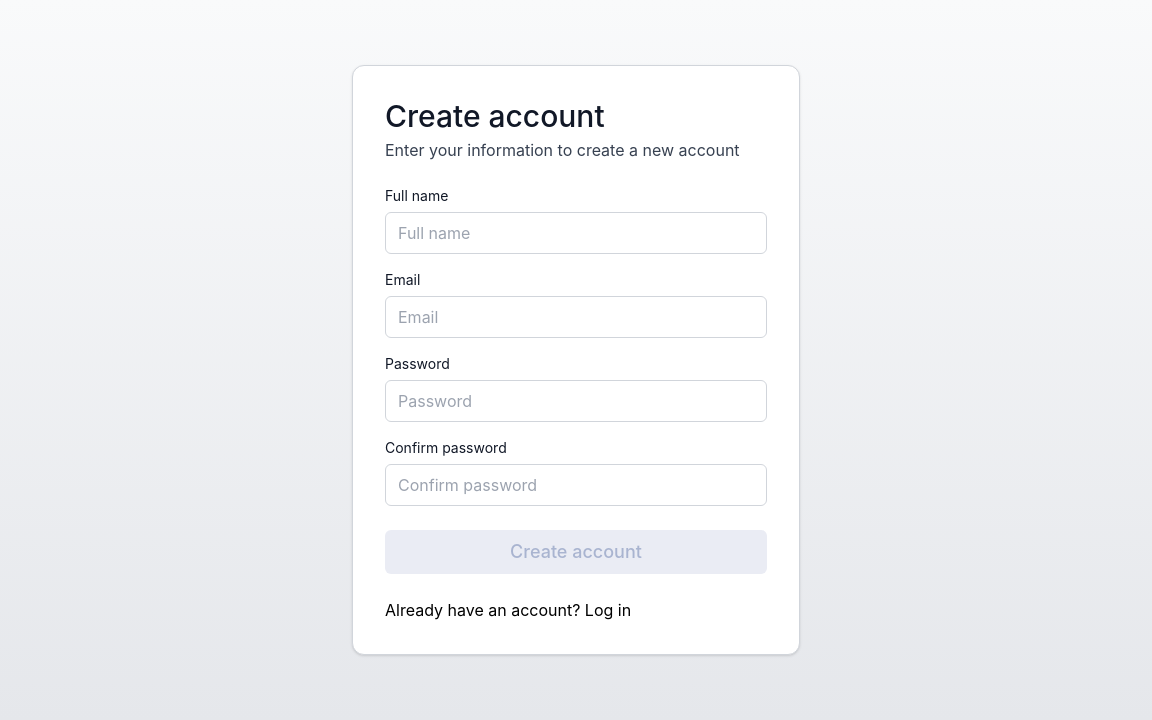
Test: SignupForm › maps 422 field errors from the server onto the matching inputs
Type "Jane Doe" into the field labelled "Full name". click: (576, 233)
box: [385,212,767,254]
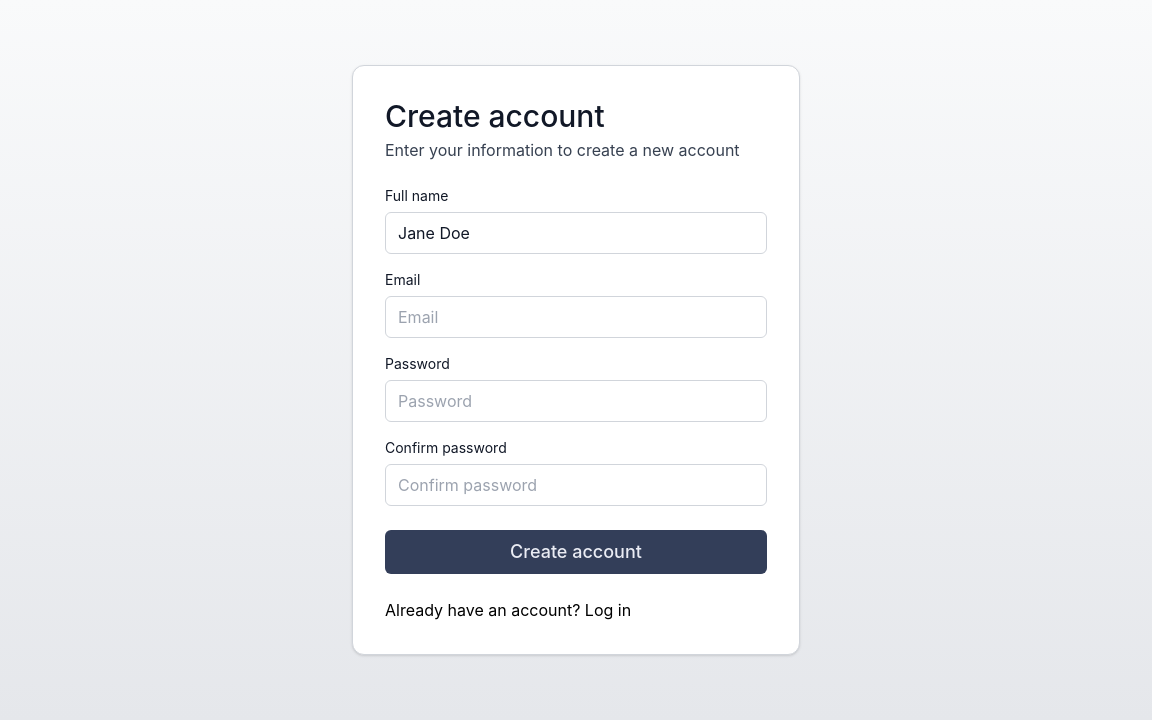
Type "jane@example.com" into the field labelled "Email". click: (576, 317)
box: [385,296,767,338]
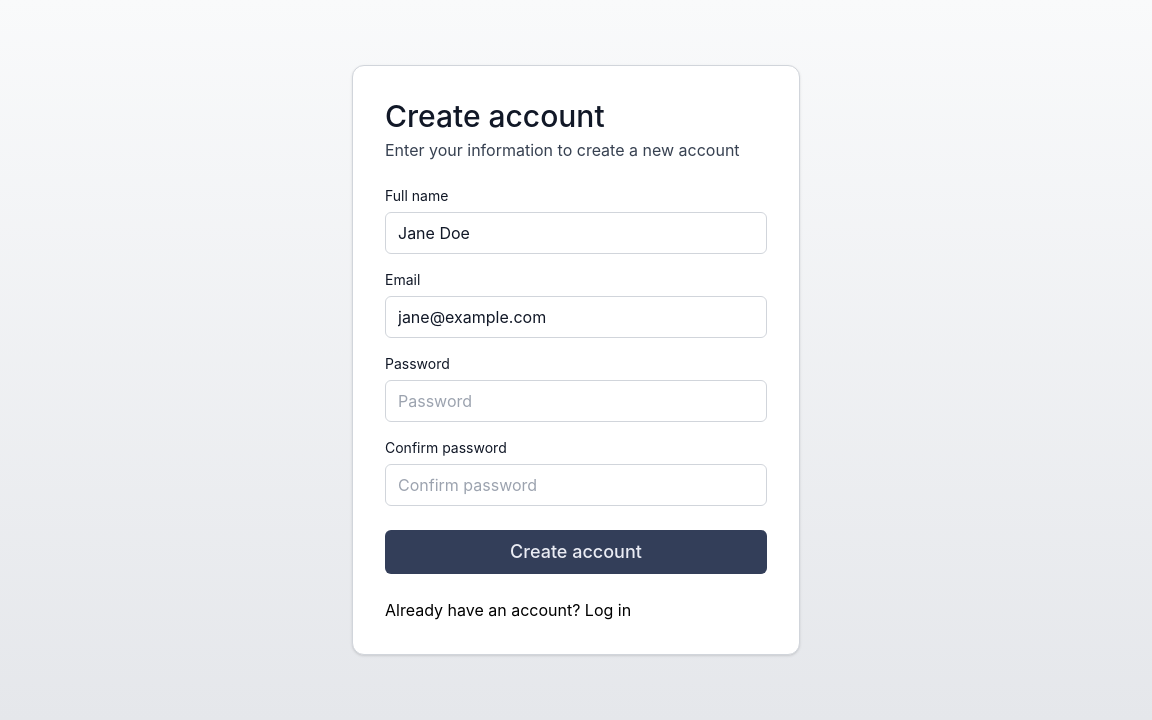
Type "password123" into the password field labelled "Password". click: (576, 401)
box: [385,380,767,422]
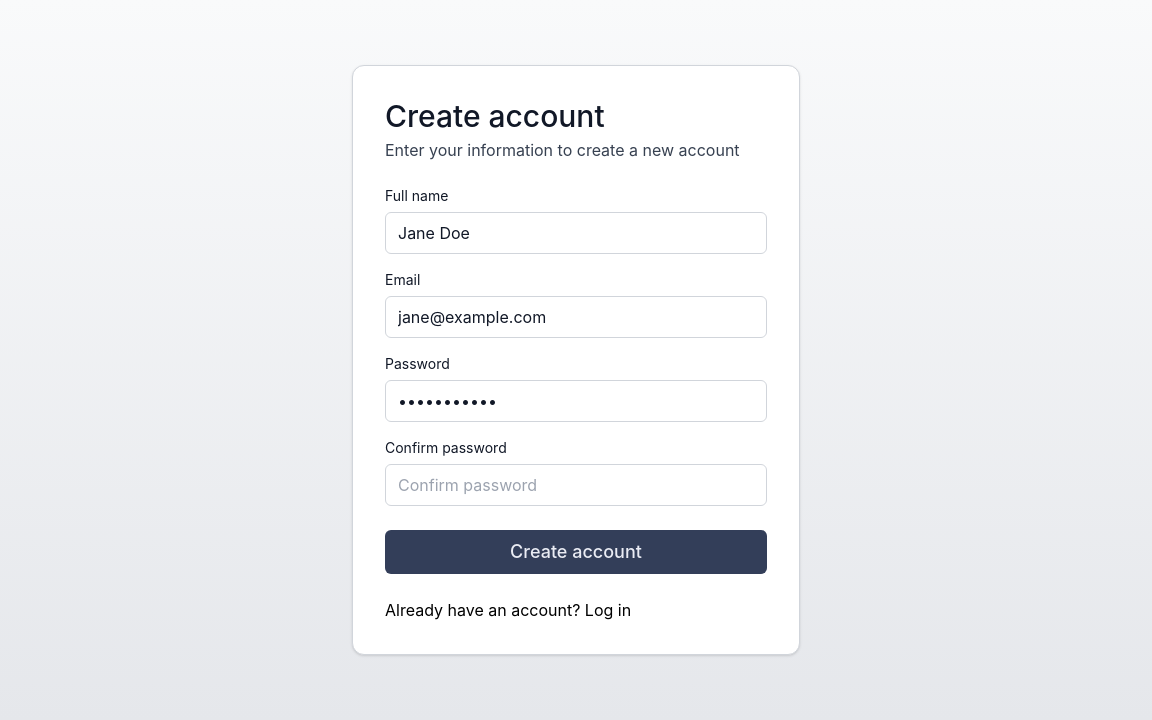
Type "password123" into the password field labelled "Confirm password". click: (576, 485)
box: [385,464,767,506]
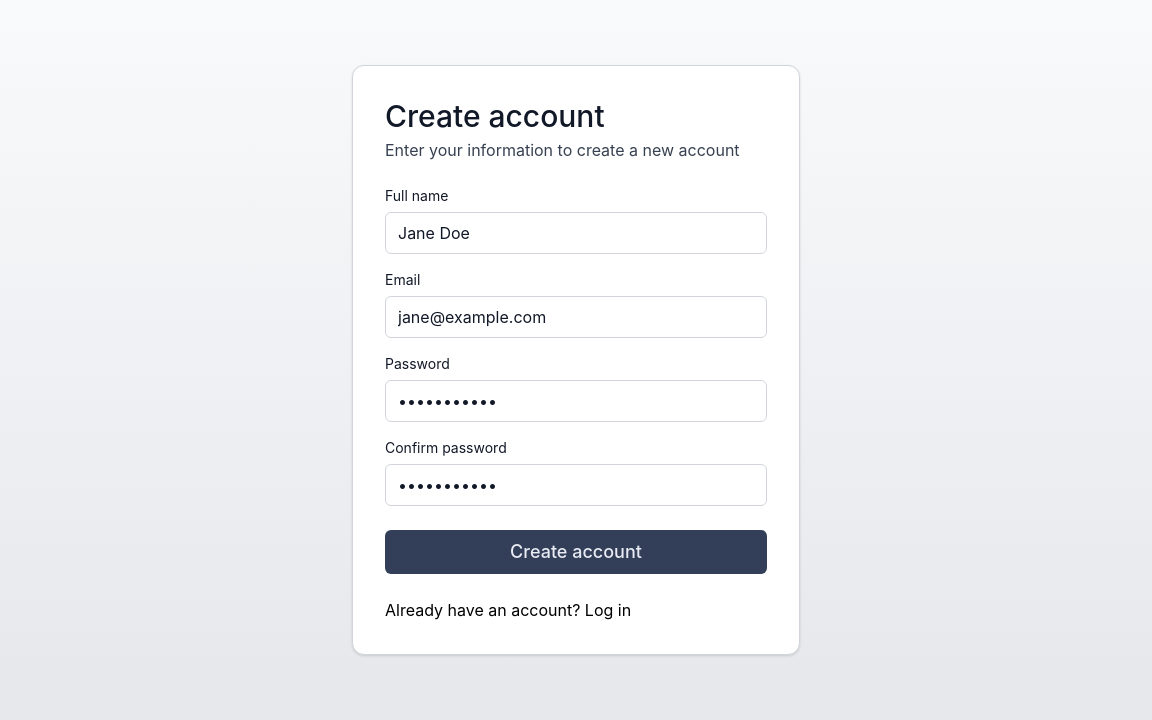
Click the button "Create account". click: (576, 552)
box: [385,530,767,574]
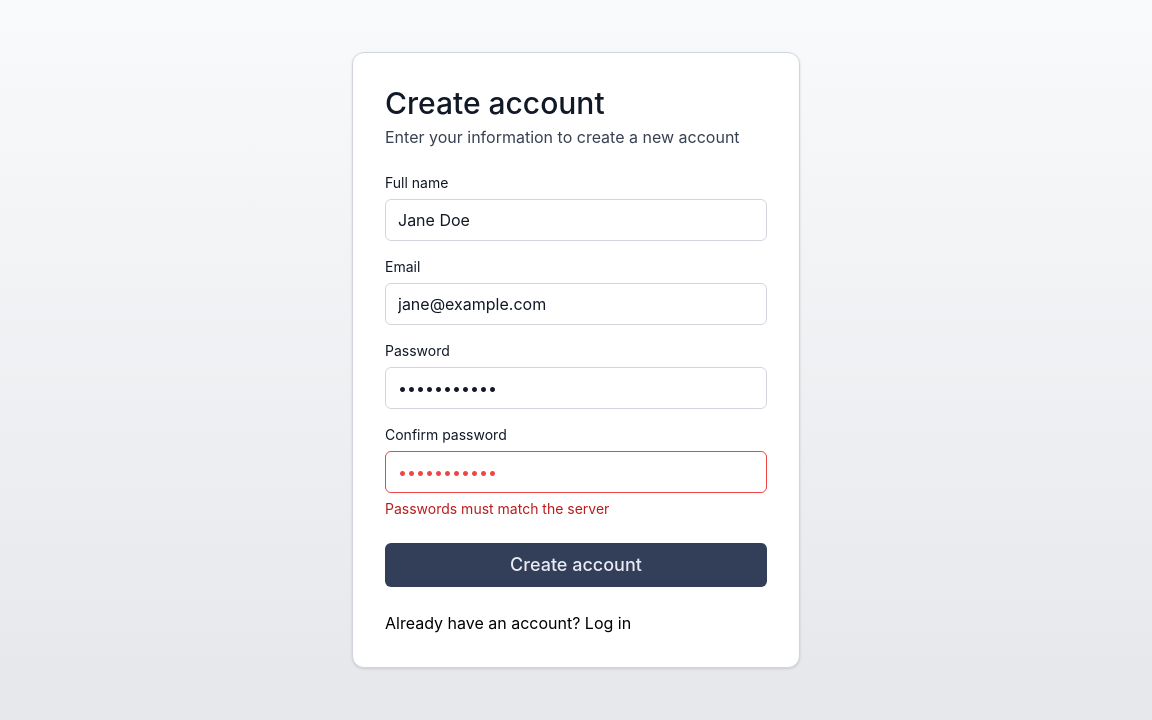
Expected: the text "Passwords must match the server" is shown, [385,500,609,517]
